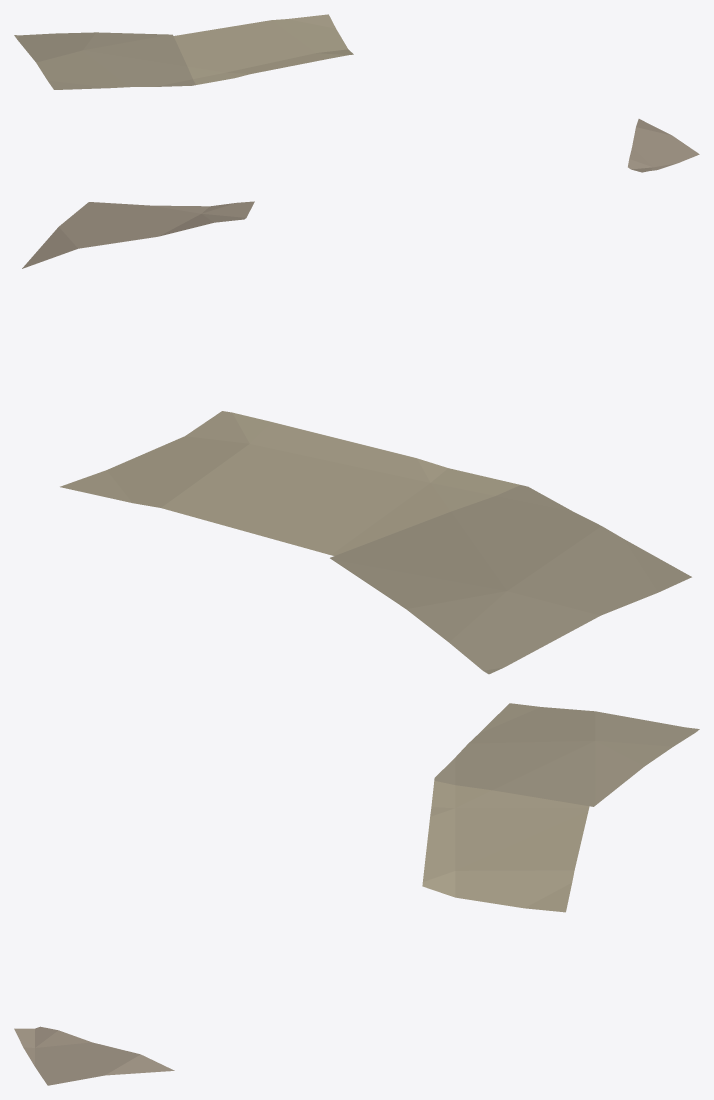
The model's file is farm_-19_-28_soil.glb.
The picture shows the model from 3 angles, top to bottom: view 1: azimuth 30°, elevation 25°; view 2: azimuth 150°, elevation 25°; view 3: azimuth 270°, elevation 25°; orthographic projection. The views are drawn at different scales.
Parts seen in each view (by area): view 1: geometry_0; view 2: geometry_0; view 3: geometry_0.
Part boxes in pixels (x1=…): geometry_0: x1=14, y1=14, x2=699, y2=172; geometry_0: x1=22, y1=201, x2=691, y2=674; geometry_0: x1=14, y1=703, x2=699, y2=1085.
Size of the model in its own units: 419 by 46.93 by 392.
